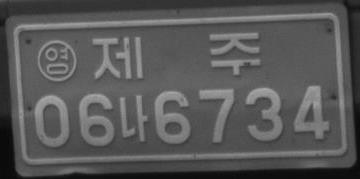0: (33, 94, 70, 148)
3: (244, 87, 283, 142)
4: (293, 84, 330, 140)
6: (153, 90, 192, 145), (78, 92, 116, 147)
7: (198, 88, 237, 143)
나: (118, 93, 147, 142)
영: (35, 38, 77, 83)
제주_D: (91, 30, 262, 79)
